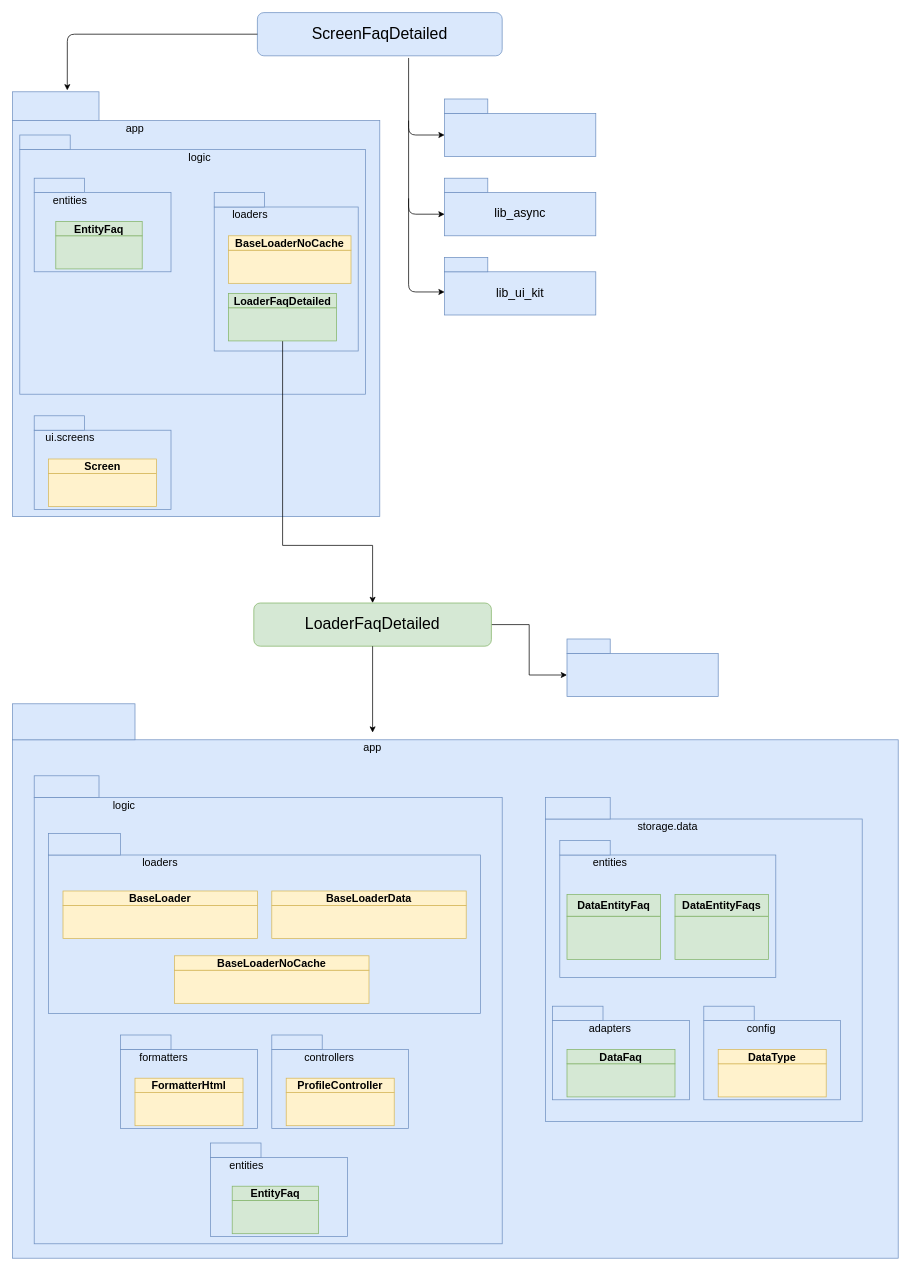
Image size: 911x1271. Some labels were removed from this diagram. Each missing label, with the box of its shape:
lib_architecture: (444, 113, 596, 157)
lib_data: (566, 653, 718, 697)
